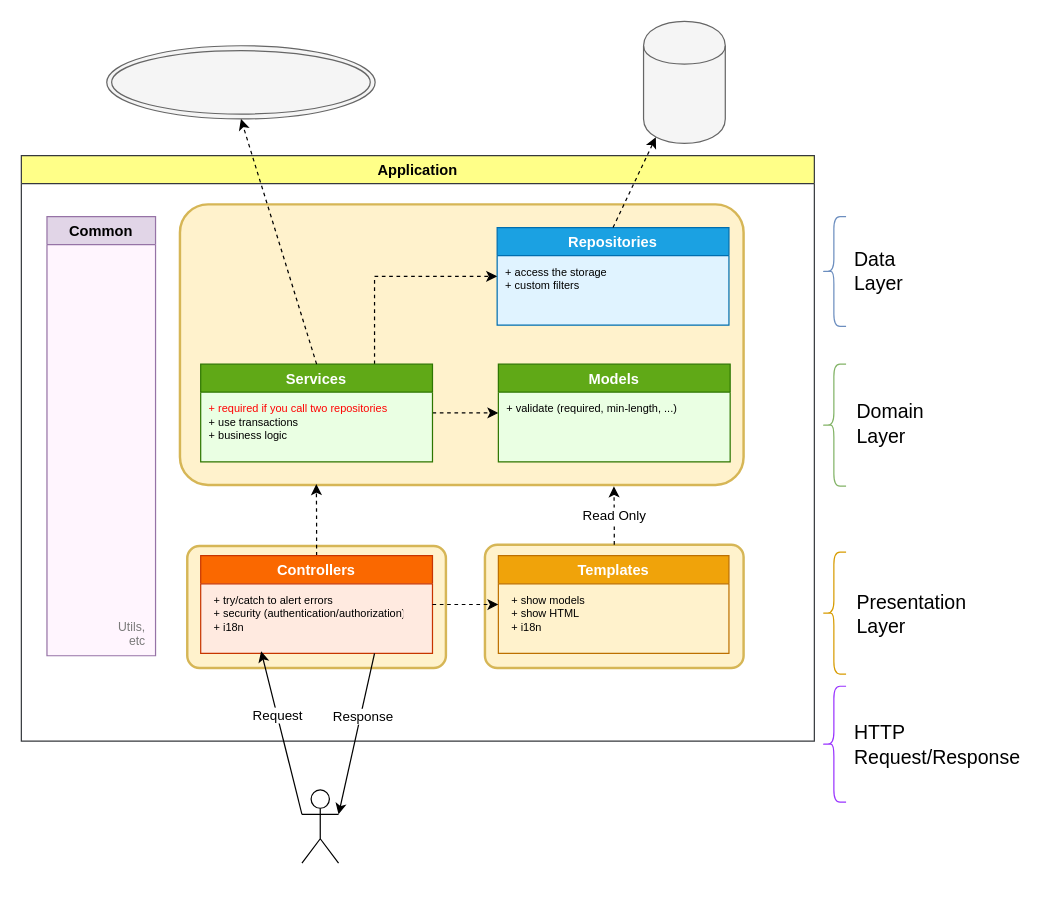
This 1042x910 diagram has some shape labels left out. Here are the shapes that lost their labels. From the top down, the centre of each, then its label:
At [240,82]: "Email, FIlesystem, External API, etc".
At [683,81]: "Datasource".
At [320,826]: "User".
